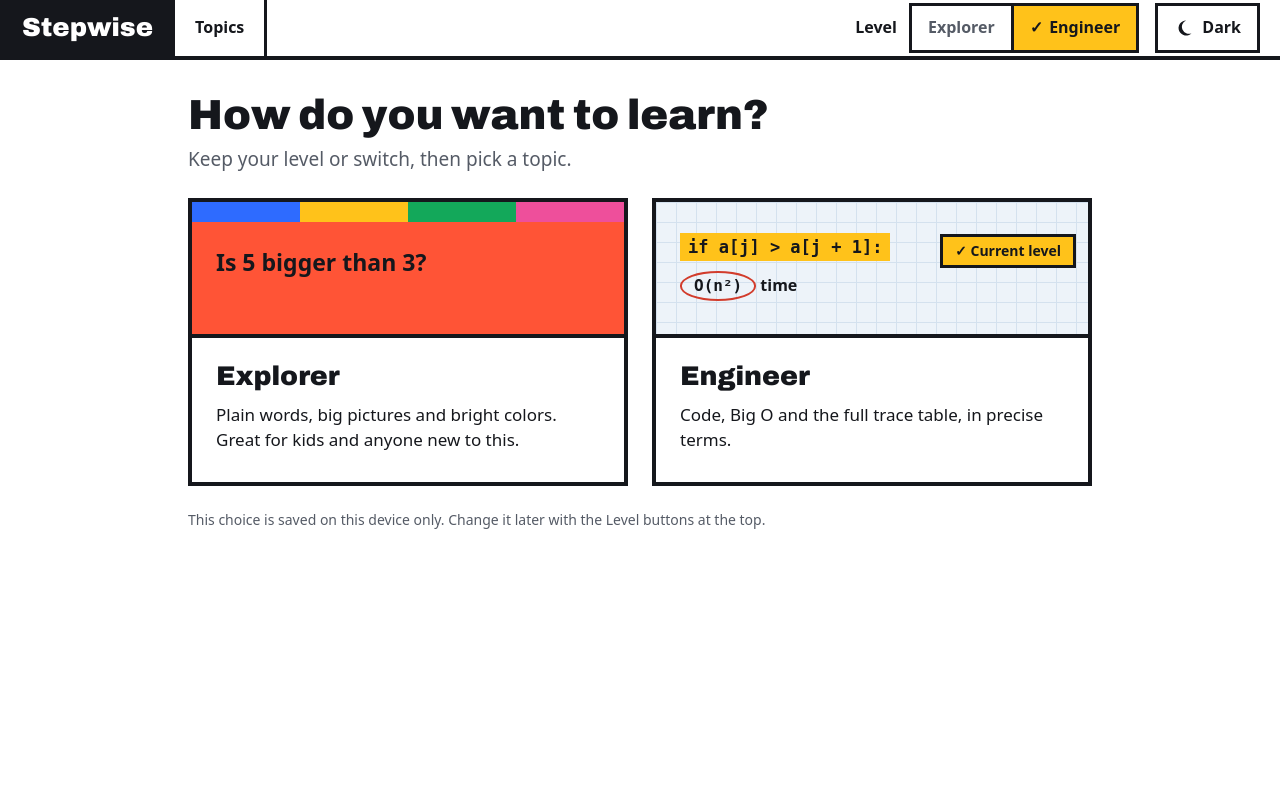
Test case: welcome screen › saves a new choice and goes to the topics
What coordinates should you click on to do the following:
click the button "Explorer"
I would click on:
 (408, 270)
Its box is left=188, top=198, right=628, bottom=486.
(page scrolled)
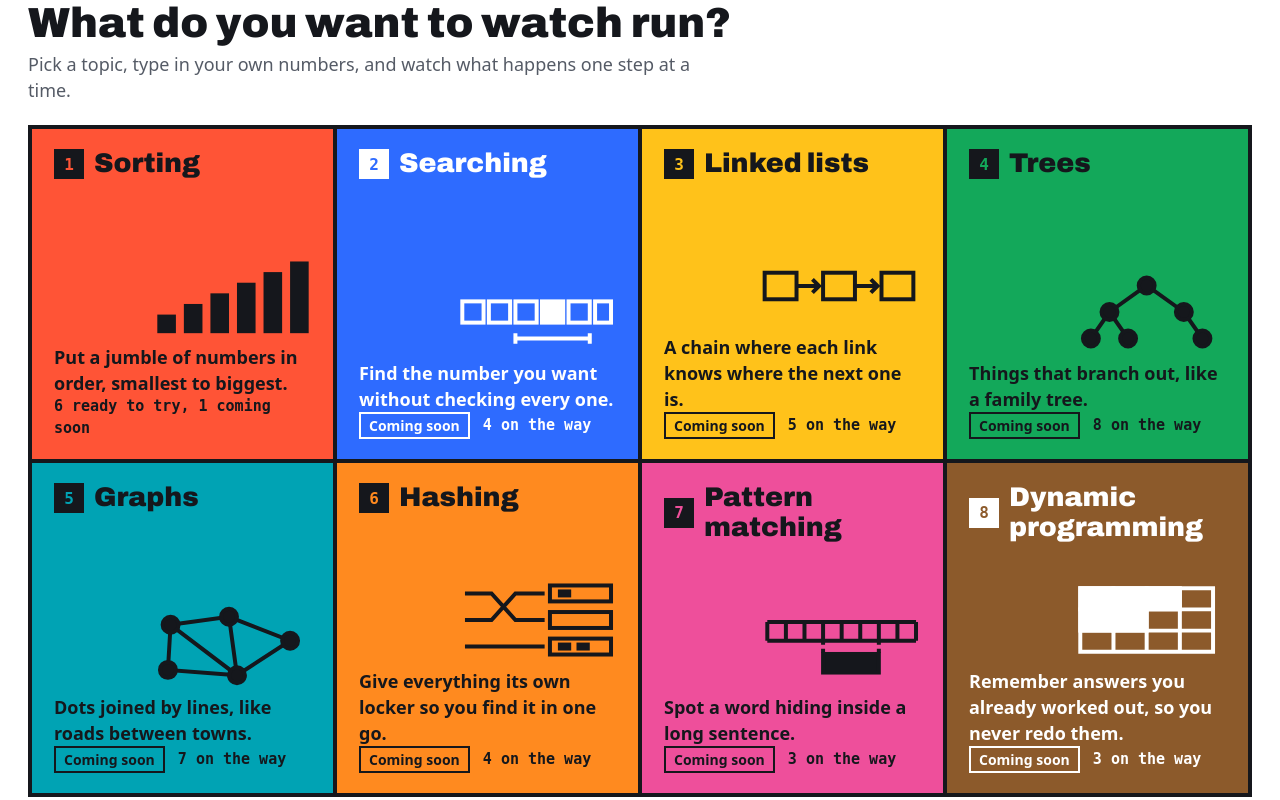
Expected: the heading "What do you want to watch run?" is shown, left=28, top=0, right=731, bottom=46
